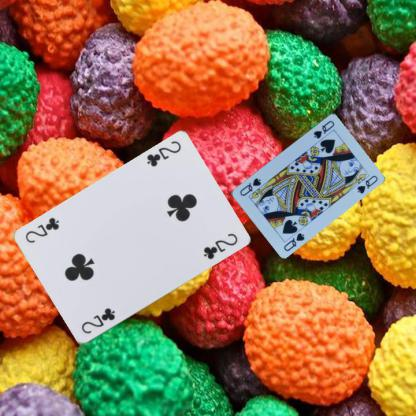2c: (78, 305, 116, 336), (144, 138, 182, 169)
Qs: (311, 118, 336, 140), (281, 230, 306, 252)
